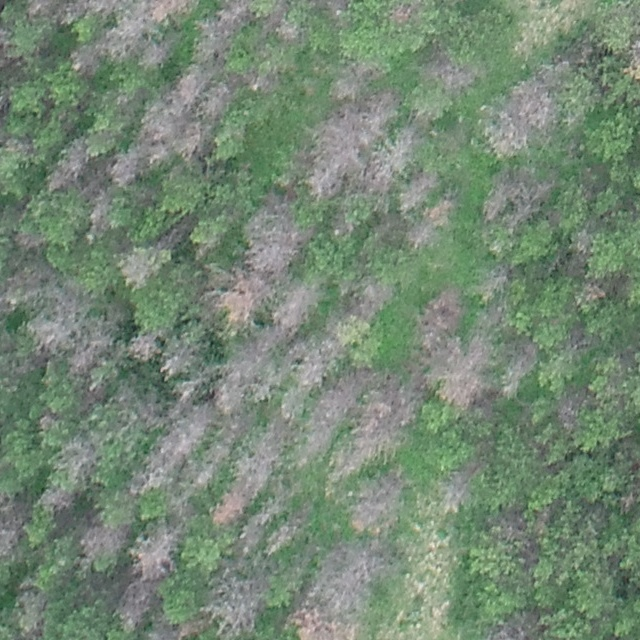unhealthy: (326, 381, 425, 483), (311, 105, 404, 193), (289, 371, 365, 465), (138, 402, 214, 489), (136, 72, 207, 164), (483, 77, 557, 155), (308, 540, 384, 606), (215, 331, 281, 407), (245, 200, 311, 274), (480, 169, 556, 227), (206, 575, 268, 639), (436, 339, 491, 409), (124, 519, 184, 582), (205, 268, 270, 326), (198, 3, 258, 59), (237, 423, 287, 490), (30, 300, 82, 363), (349, 472, 401, 532), (416, 282, 463, 341), (285, 606, 360, 640), (104, 0, 149, 55), (44, 138, 91, 190), (421, 50, 478, 90), (501, 339, 539, 396), (272, 283, 319, 329), (244, 490, 296, 530), (330, 60, 381, 100), (115, 582, 156, 630), (85, 317, 116, 378), (0, 493, 27, 562), (79, 521, 129, 558), (263, 504, 303, 550), (438, 467, 478, 512), (351, 279, 397, 317), (287, 334, 324, 380), (12, 586, 47, 634), (117, 248, 159, 287), (212, 485, 250, 526), (488, 508, 531, 544), (395, 171, 435, 209), (486, 612, 541, 639), (83, 187, 113, 236), (160, 342, 200, 378), (0, 266, 33, 308), (477, 263, 513, 299), (208, 82, 243, 118), (103, 147, 137, 184), (69, 40, 102, 77), (406, 217, 441, 250), (156, 218, 192, 250), (125, 330, 161, 362), (554, 392, 582, 432), (39, 483, 76, 512), (620, 466, 640, 517), (152, 35, 184, 66), (387, 1, 420, 26), (625, 26, 639, 81), (569, 227, 595, 256), (60, 1, 102, 18), (153, 0, 189, 19), (24, 0, 58, 20), (14, 229, 45, 250), (582, 280, 609, 304), (308, 0, 351, 14)
